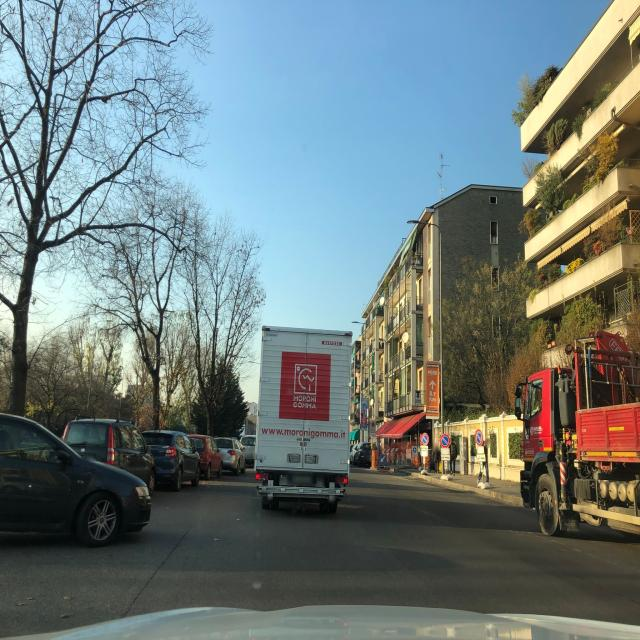forb_stopping: (440, 434, 450, 448), (475, 431, 482, 445)
